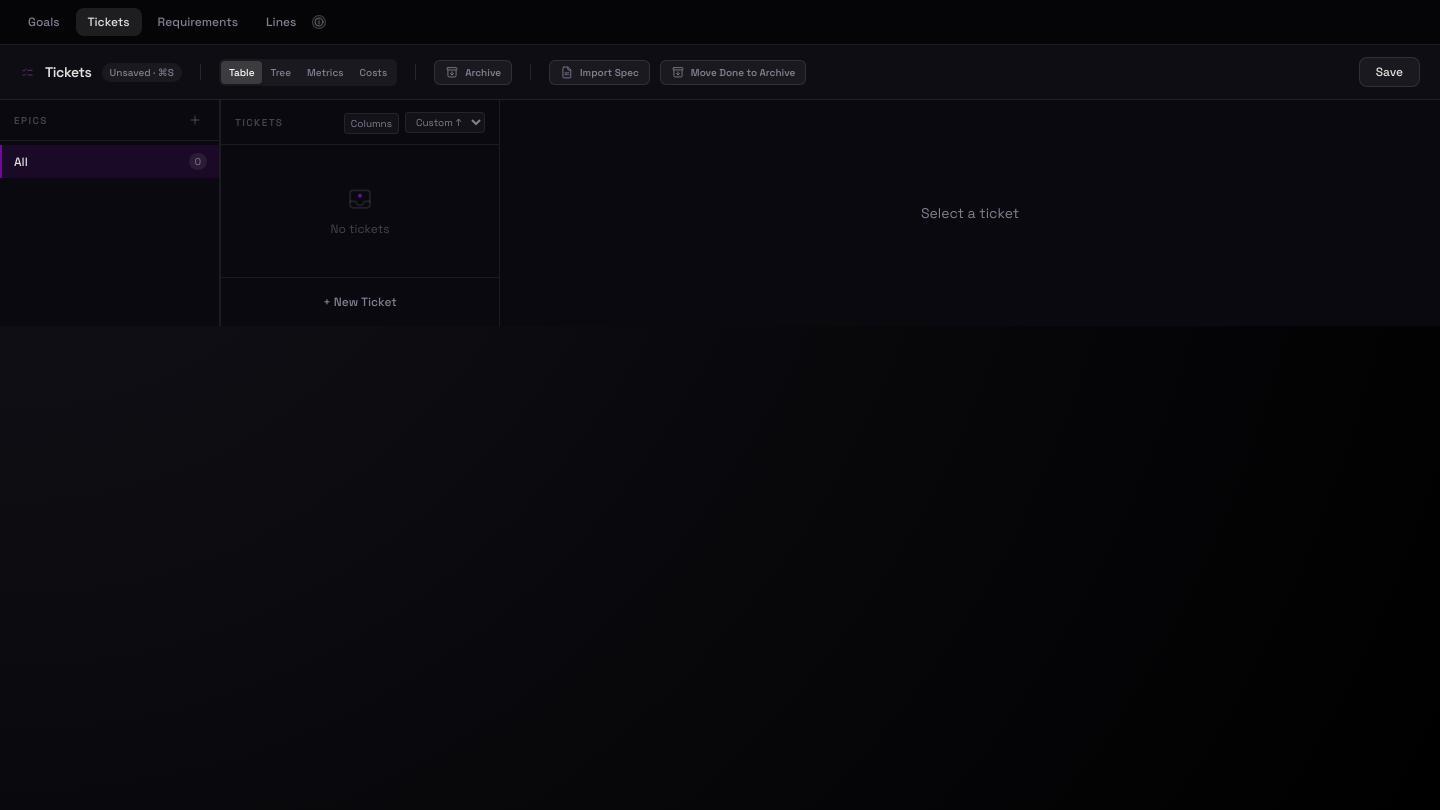
it: WorkView › leaving Tickets with unsaved PM changes › keeps the unsaved ticket when discard is declined
Click the tab "Goals" at {"x": 44, "y": 22}, box [16, 8, 72, 36]
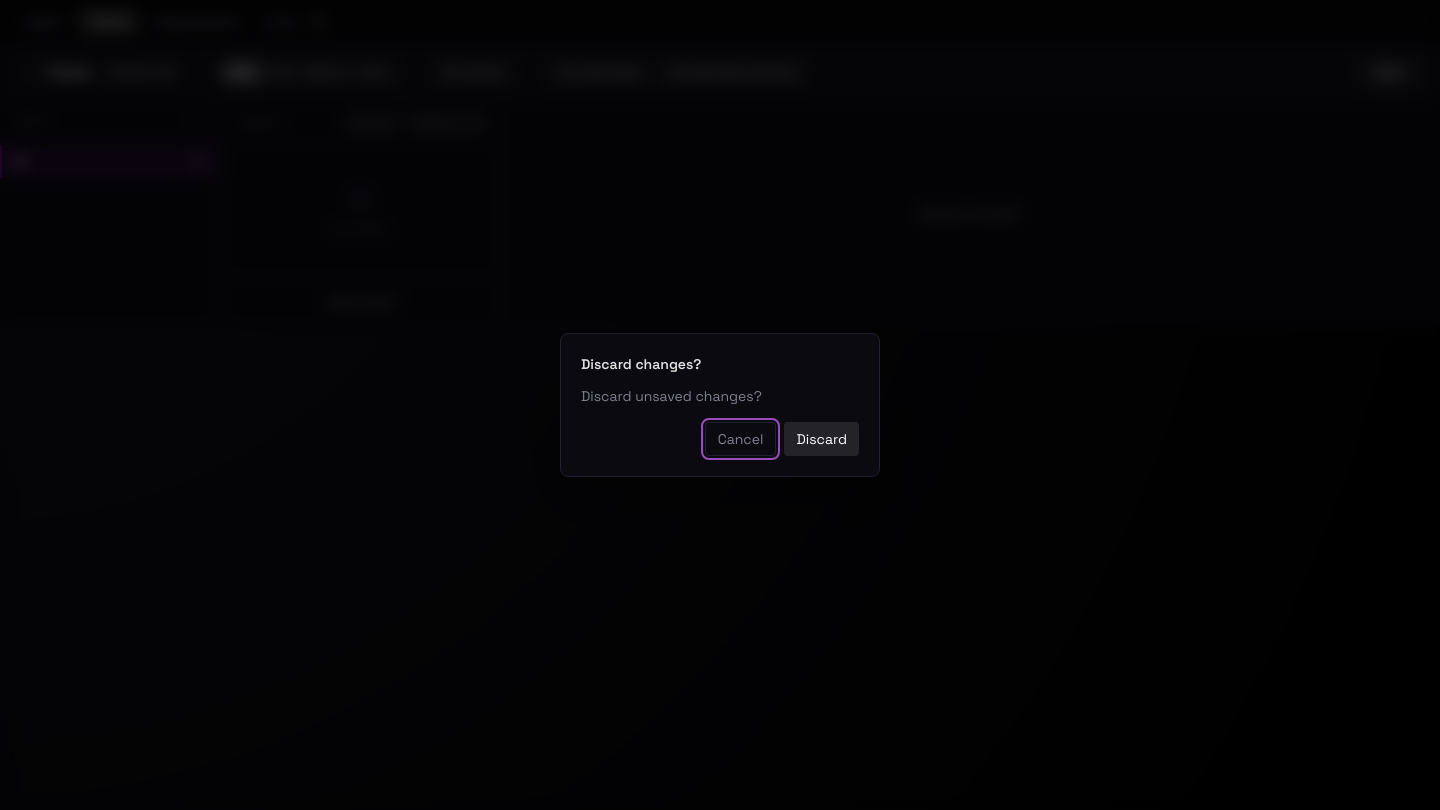
Click the button "Cancel" at {"x": 741, "y": 439}, box [705, 422, 776, 456]
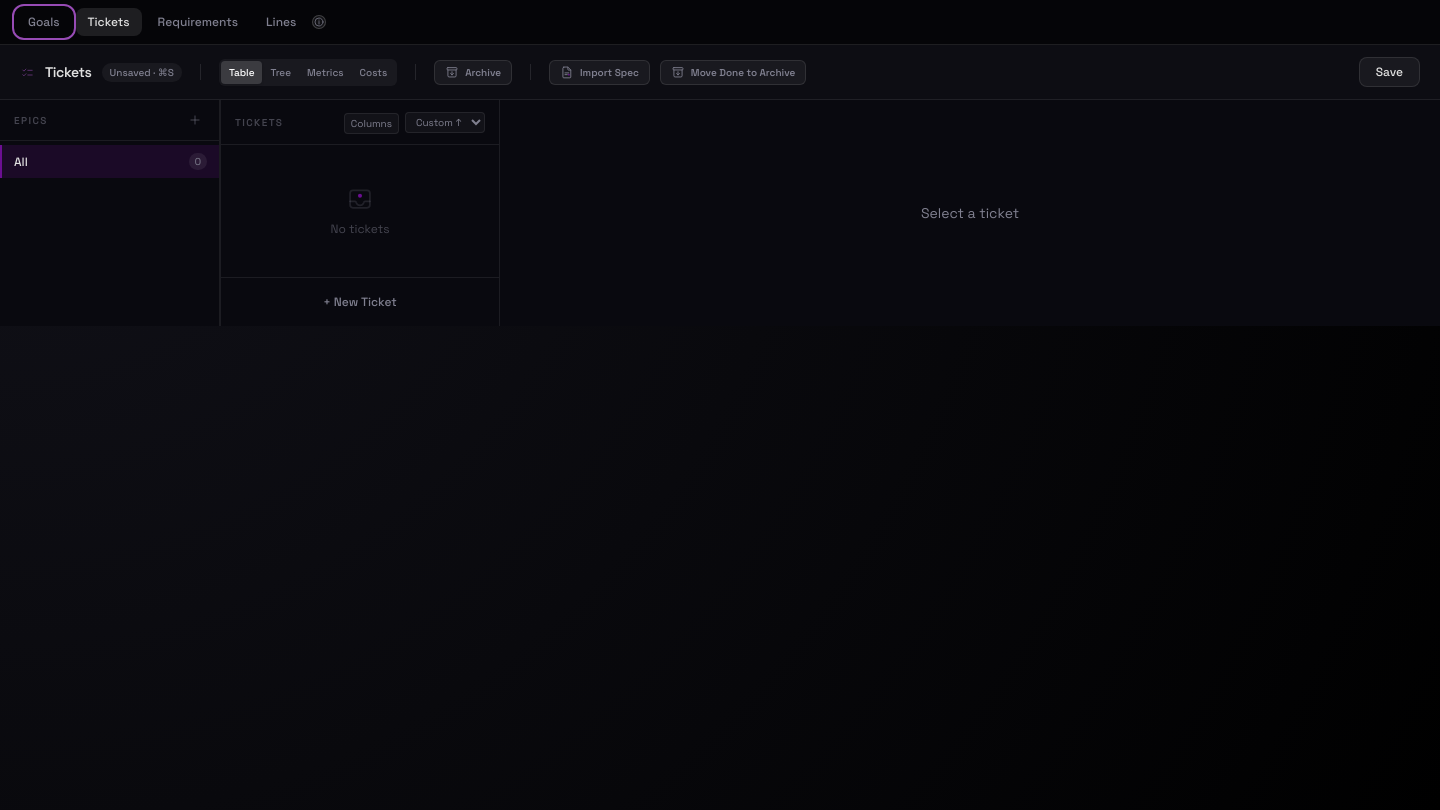
expect the heading "Discard changes?" is gone: met
